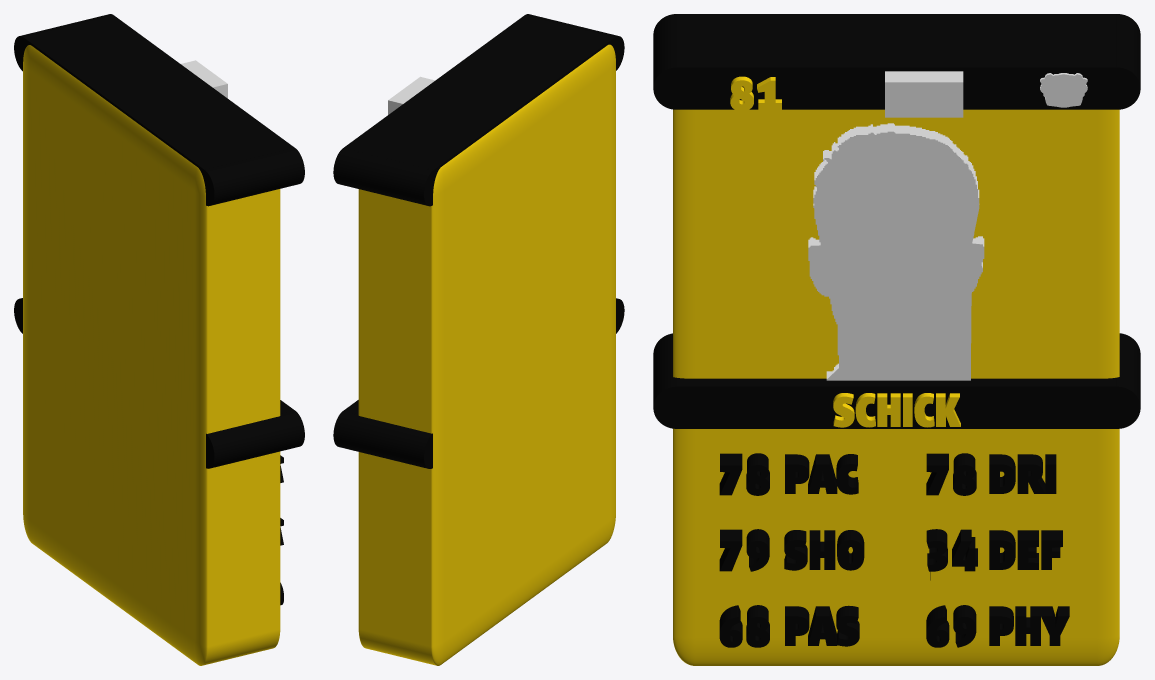
Rendered from SCHICK.fbx.
3 views of the same model, side by side, from view 1: azimuth 30°, elevation 25°; view 2: azimuth 150°, elevation 25°; view 3: azimuth 270°, elevation 25° (orthographic). The views are drawn at different scales.
Visible parts, largest first — view 1: Куб, Цилиндр.002, Цилиндр.001, Куб.001; view 2: Куб, Цилиндр.002, Цилиндр.001, Куб.001; view 3: Куб, Цилиндр.002, Плоскость, Цилиндр.001, Куб.001, Текст.006, Текст, Текст.002, Текст.005, Текст.004, Текст.001, Текст.003 (+8 smaller).
Part boxes in pixels (box(x1,y1,x2,y2)): Куб: box(23, 45, 280, 665); Цилиндр.002: box(14, 14, 304, 206); Цилиндр.001: box(14, 298, 304, 468); Куб.001: box(181, 60, 227, 98); Куб: box(358, 44, 615, 665); Цилиндр.002: box(333, 14, 624, 206); Цилиндр.001: box(333, 298, 624, 468); Куб.001: box(388, 76, 435, 114); Куб: box(673, 109, 1119, 665); Цилиндр.002: box(653, 14, 1140, 109); Плоскость: box(808, 123, 984, 380); Цилиндр.001: box(653, 333, 1140, 428); Куб.001: box(885, 71, 963, 117); Текст.006: box(833, 393, 960, 427); Текст: box(784, 530, 864, 570); Текст.002: box(785, 605, 859, 646); Текст.005: box(989, 606, 1069, 645); Текст.004: box(989, 530, 1062, 569); Текст.001: box(785, 454, 858, 494); Текст.003: box(989, 454, 1056, 493).
Size of the model in its own units: 300 by 1202 by 872.
